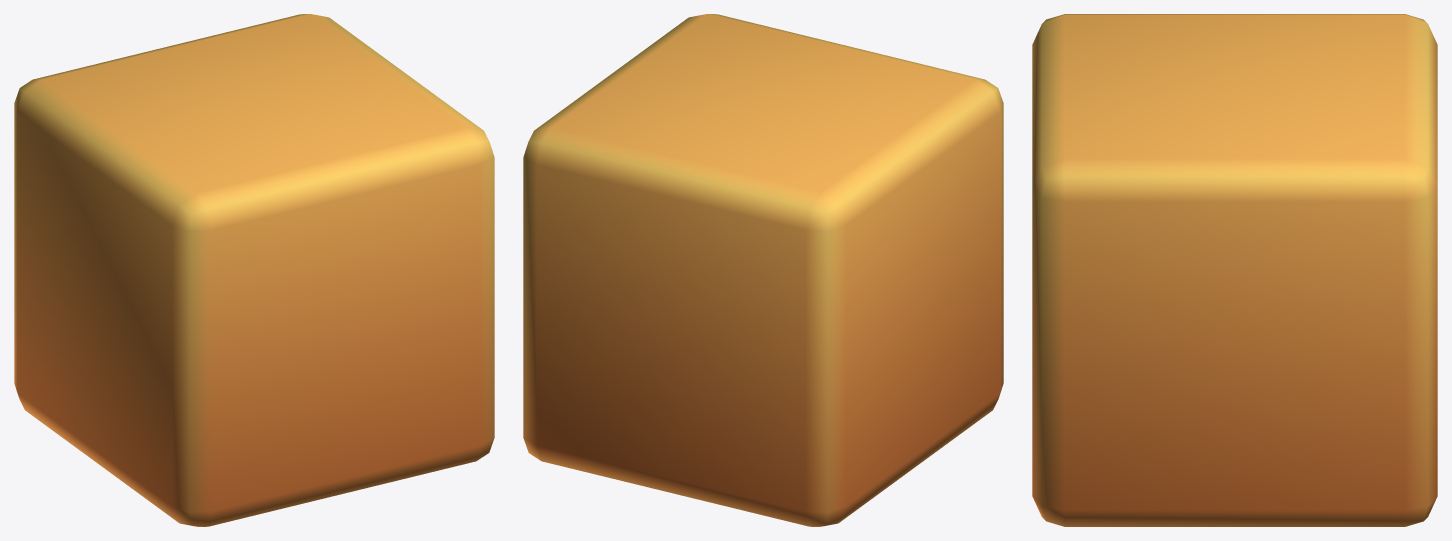
File: cube_yellow.obj
3 views of the same model, side by side, from view 1: azimuth 30°, elevation 25°; view 2: azimuth 150°, elevation 25°; view 3: azimuth 270°, elevation 25° (orthographic). The views are drawn at different scales.
Visible parts, largest first — view 1: cube_yellow; view 2: cube_yellow; view 3: cube_yellow.
Boxes of the visible parts, <box> form: cube_yellow: <box>14,14,494,526</box>; cube_yellow: <box>523,14,1003,526</box>; cube_yellow: <box>1032,14,1437,526</box>.
Bounding box in the file's own units: 0.5 × 0.5 × 0.5.
1 material, 1 textured.
